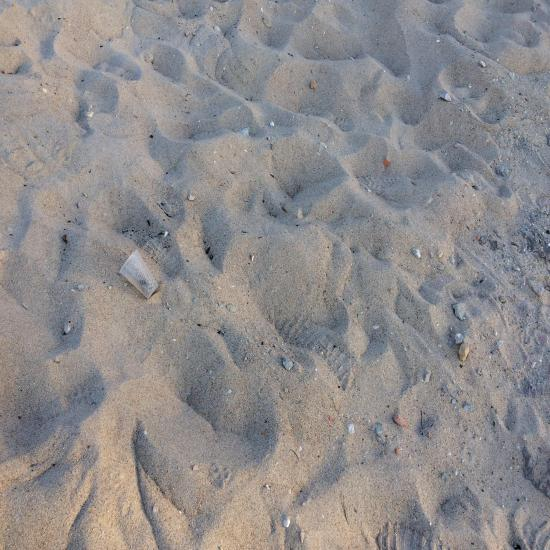Cigarette: (164, 231, 168, 237)
Disposable plastic cup: (119, 249, 159, 299)
